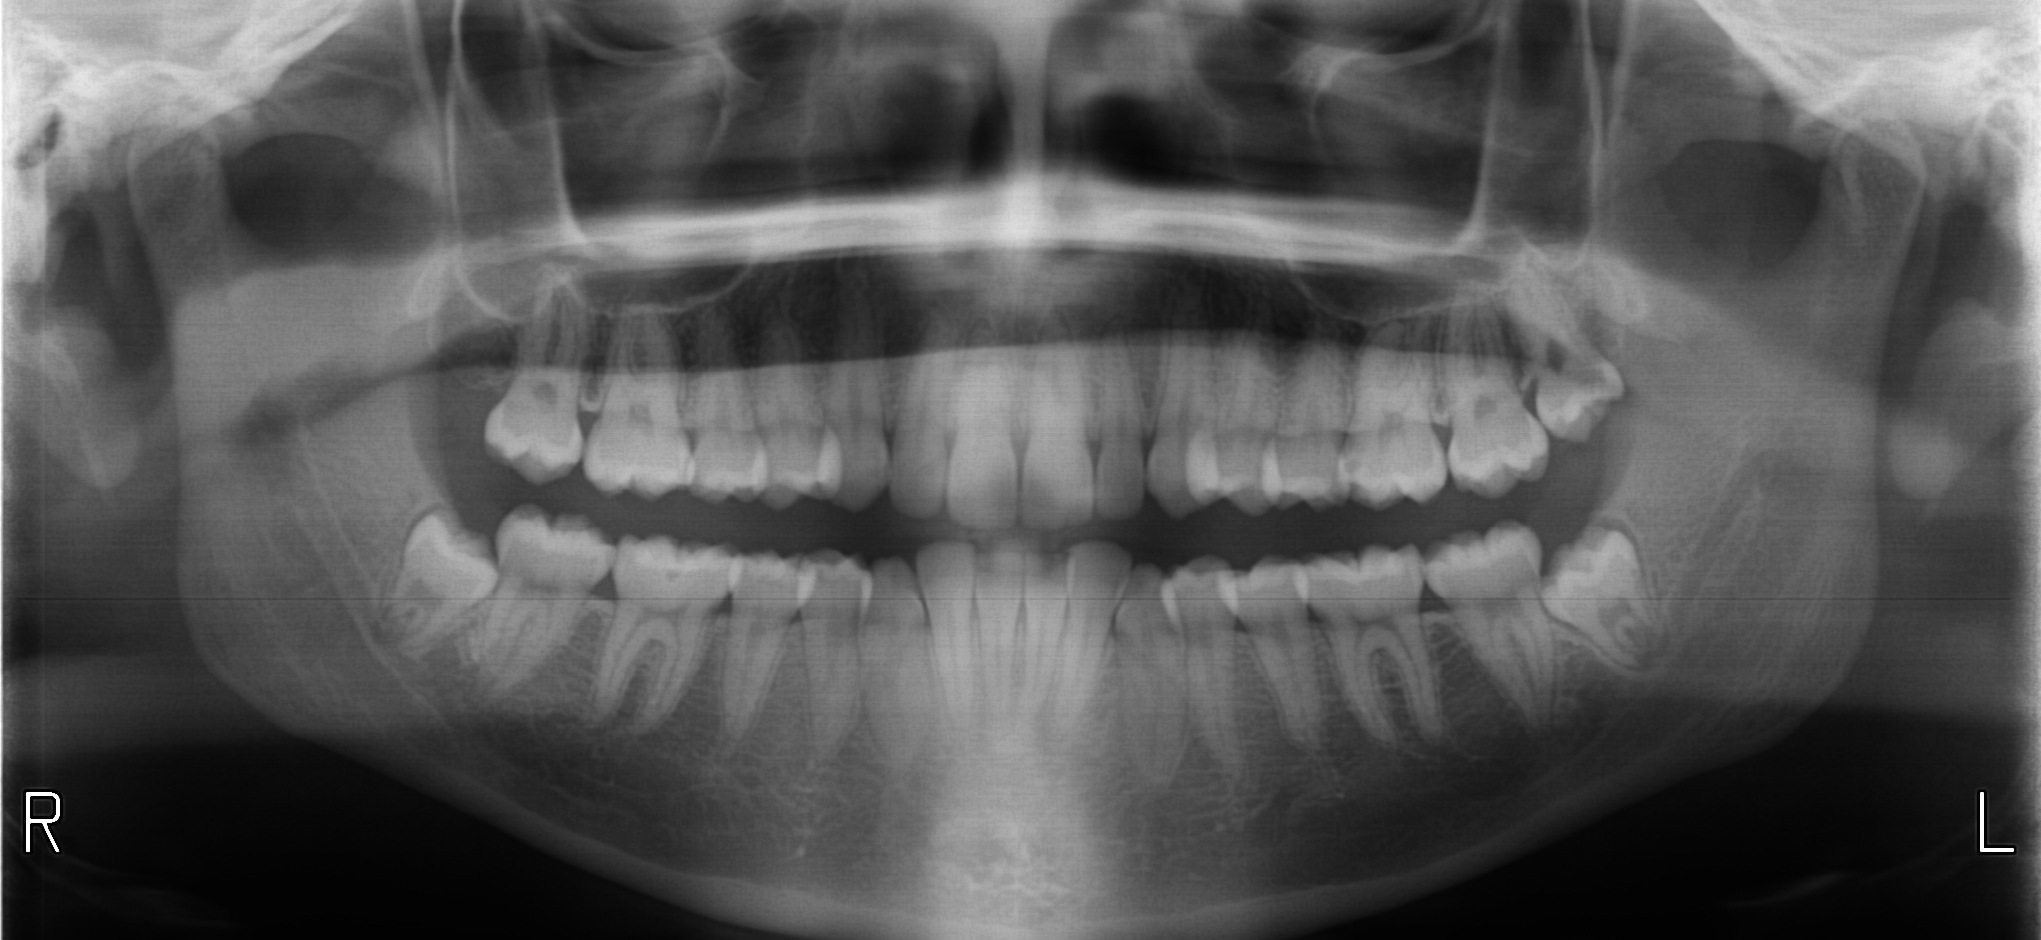cavity: (1349, 457, 1356, 469)
